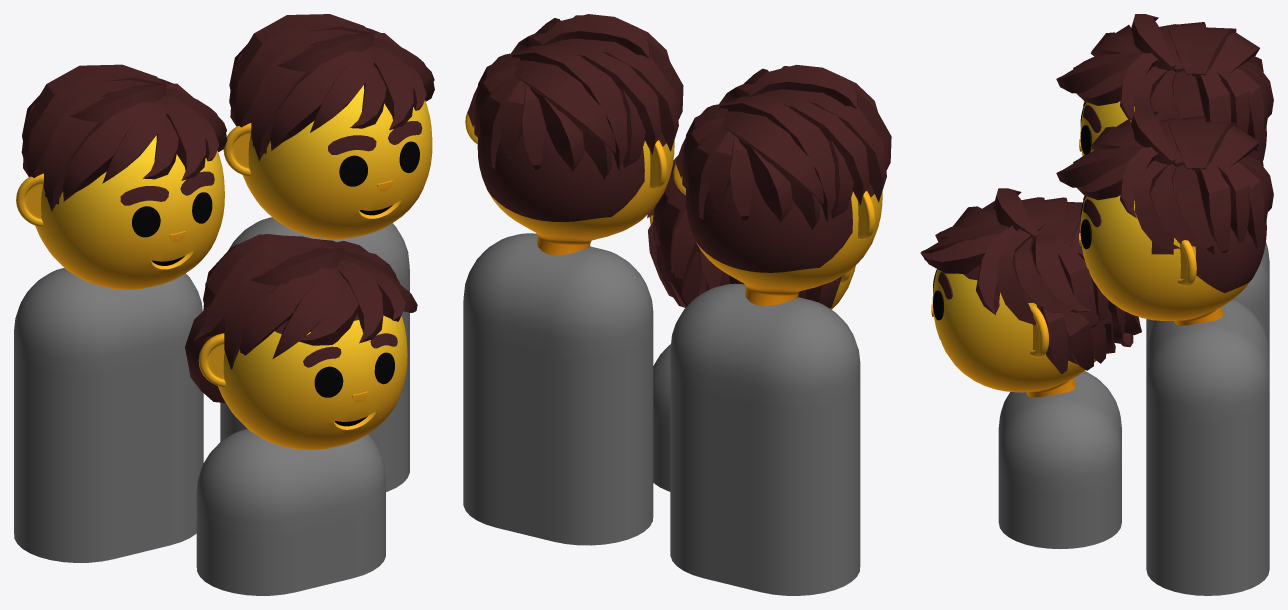
Rendered from family.gltf.
3 renders of one model, left to right at view 1: azimuth 30°, elevation 25°; view 2: azimuth 150°, elevation 25°; view 3: azimuth 270°, elevation 25°, orthographic. The views are drawn at different scales.
Visible parts, largest first — view 1: Sphere.271, Sphere.270, Cube.4006, Cube.4060, Cube.4038, Roundcube.326, Roundcube.327, Roundcube.325, Sphere.272, Circle.1437, Circle.1444, Circle.1440 (+6 smaller); view 2: Sphere.272, Sphere.271, Cube.4060, Cube.4038, Roundcube.326, Roundcube.327, Cube.4006, Sphere.270, Cylinder.266, Cylinder.267; view 3: Sphere.272, Cube.4060, Cube.4006, Sphere.270, Cube.4038, Roundcube.327, Roundcube.325, Sphere.271, Roundcube.326, Cylinder.265, Cylinder.267.
Boxes of the visible parts, <box> form: Sphere.271: <box>14,268,203,562</box>; Sphere.270: <box>196,429,385,595</box>; Cube.4006: <box>185,234,417,402</box>; Cube.4060: <box>229,14,434,160</box>; Cube.4038: <box>21,64,227,211</box>; Roundcube.326: <box>35,135,224,289</box>; Roundcube.327: <box>243,85,432,239</box>; Roundcube.325: <box>218,314,407,450</box>; Sphere.272: <box>220,217,409,491</box>; Circle.1437: <box>314,352,394,397</box>; Circle.1444: <box>339,141,419,186</box>; Circle.1440: <box>132,192,212,237</box>; Sphere.272: <box>463,233,653,545</box>; Sphere.271: <box>670,283,860,595</box>; Cube.4060: <box>467,14,683,179</box>; Cube.4038: <box>675,64,891,229</box>; Roundcube.326: <box>685,179,882,306</box>; Roundcube.327: <box>477,128,674,255</box>; Cube.4006: <box>647,155,842,308</box>; Sphere.270: <box>653,344,670,491</box>; Cylinder.266: <box>673,162,875,239</box>; Cylinder.267: <box>465,111,667,188</box>; Sphere.272: <box>1146,299,1269,595</box>; Cube.4060: <box>1056,108,1273,254</box>; Cube.4006: <box>920,188,1141,374</box>; Sphere.270: <box>998,371,1121,549</box>; Cube.4038: <box>1056,14,1273,151</box>; Roundcube.327: <box>1080,161,1266,325</box>; Roundcube.325: <box>932,250,1095,397</box>; Sphere.271: <box>1146,242,1269,354</box>; Roundcube.326: <box>1080,67,1266,160</box>; Cylinder.265: <box>1030,306,1049,357</box>; Cylinder.267: <box>1177,240,1196,286</box>.
Size of the model in its own units: 2.35 by 2.58 by 1.9.
Materials: 1 (1 with a texture image).
